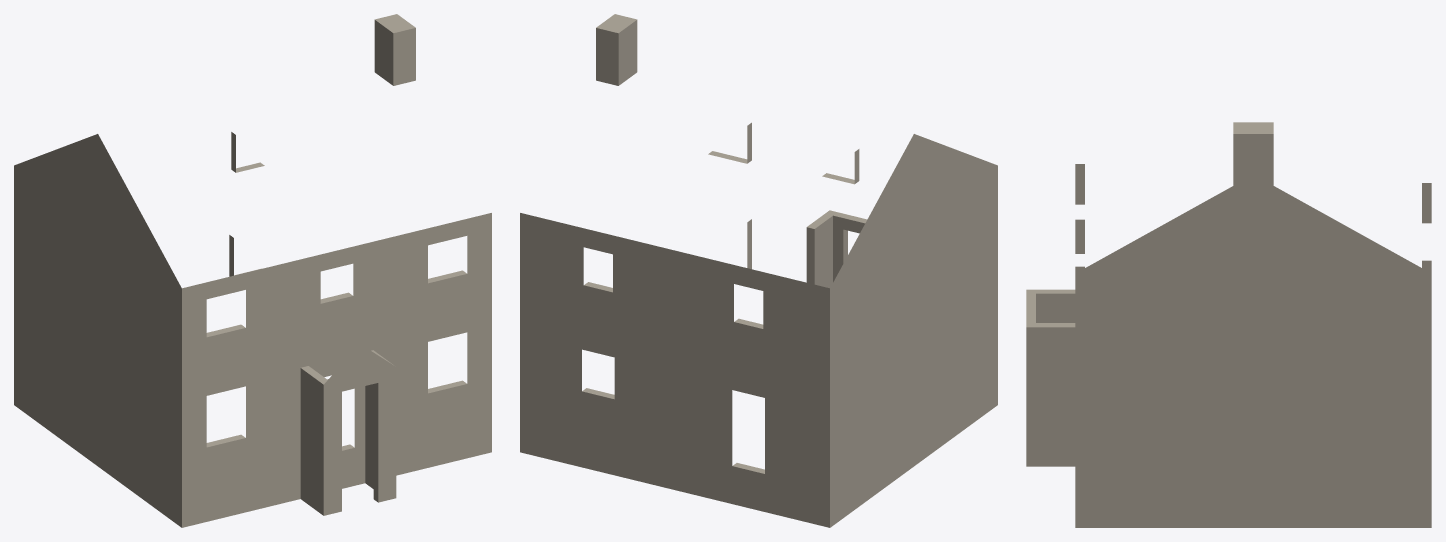
The model's file is SM_Bld_135_Render.glb.
3 renders of one model, left to right at view 1: azimuth 30°, elevation 25°; view 2: azimuth 150°, elevation 25°; view 3: azimuth 270°, elevation 25°, orthographic. The views are drawn at different scales.
Visible parts, largest first — view 1: SM_Bld_135_Render; view 2: SM_Bld_135_Render; view 3: SM_Bld_135_Render.
Boxes of the visible parts, left/top/right/bottom form: SM_Bld_135_Render: left=14, top=14, right=491, bottom=527; SM_Bld_135_Render: left=520, top=14, right=997, bottom=527; SM_Bld_135_Render: left=1026, top=122, right=1431, bottom=527.
Size of the model in its own units: 8.53 by 9.74 by 9.1.
